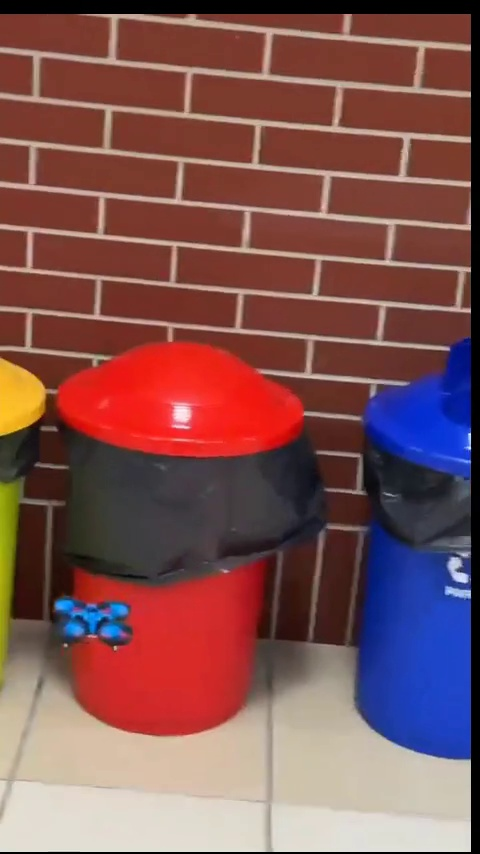drone: (53, 597, 132, 649)
